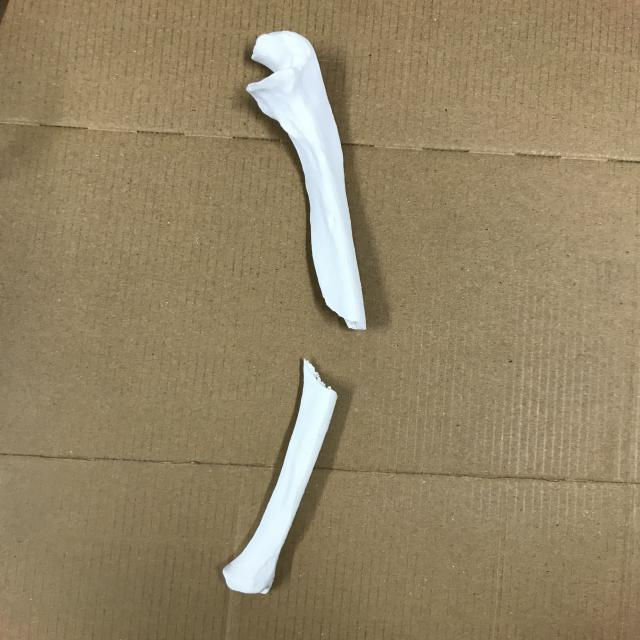bone: (244, 25, 378, 340), (214, 360, 352, 592)
